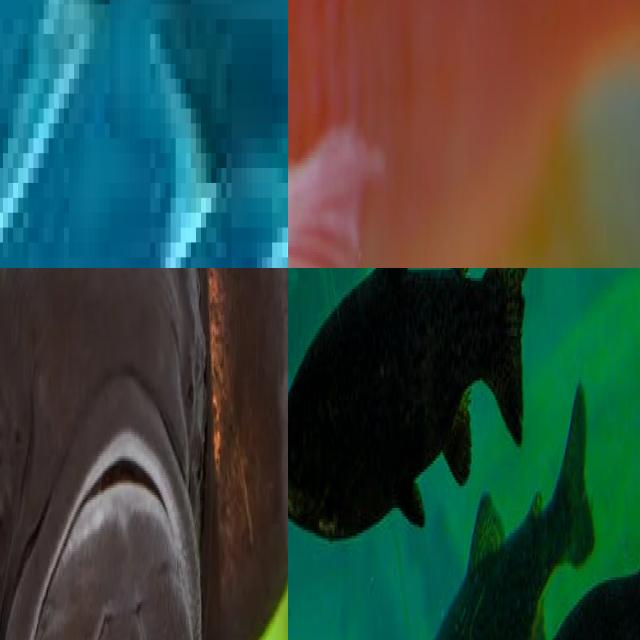fish: (0, 0, 288, 268), (288, 268, 605, 386)
